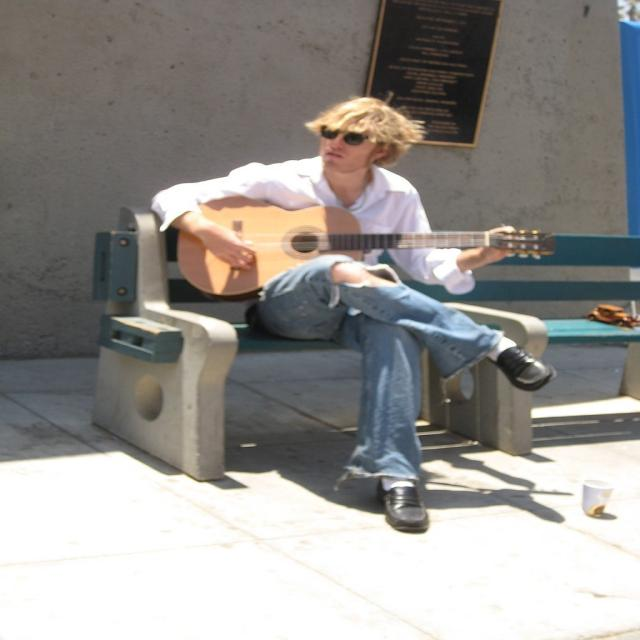guitar: (176, 195, 554, 299)
